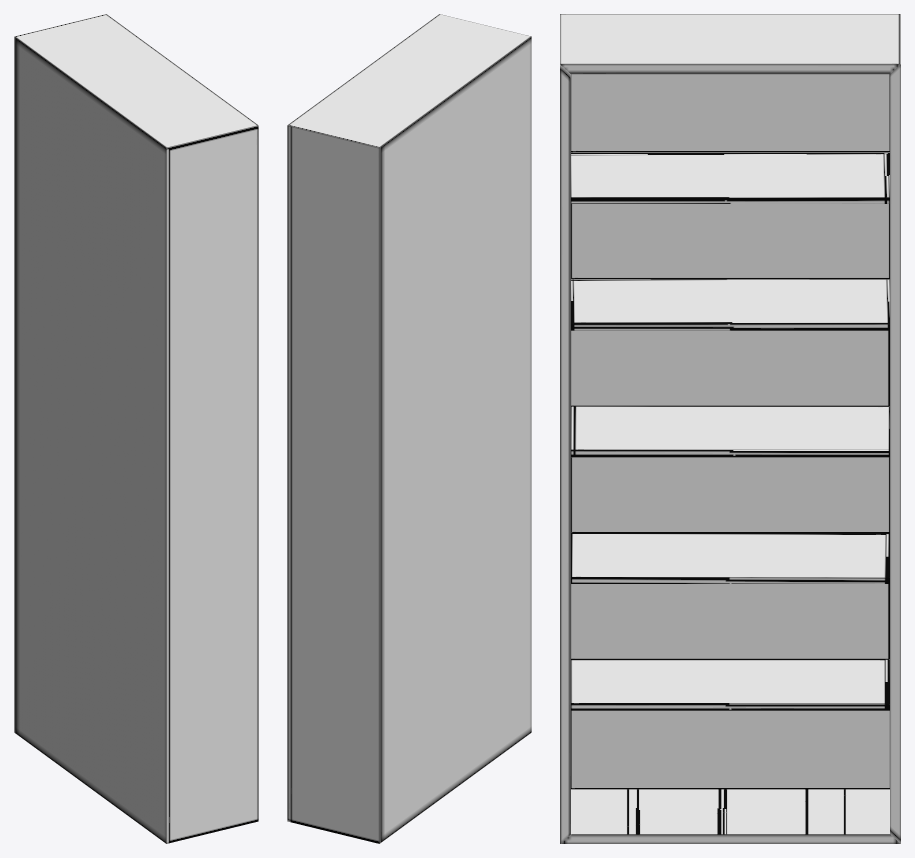
File: Billy_Shelf.FBX
3 views of the same model, side by side, from view 1: azimuth 30°, elevation 25°; view 2: azimuth 150°, elevation 25°; view 3: azimuth 270°, elevation 25° (orthographic). The views are drawn at different scales.
Visible parts, largest first — view 1: Box001; view 2: Box001; view 3: Box001.
Part boxes in pixels (x1=…): Box001: x1=14, y1=14, x2=258, y2=843; Box001: x1=287, y1=14, x2=531, y2=843; Box001: x1=560, y1=14, x2=900, y2=843.
Size of the model in its own units: 11.02 by 79.53 by 31.5.
1 material, 1 textured.
